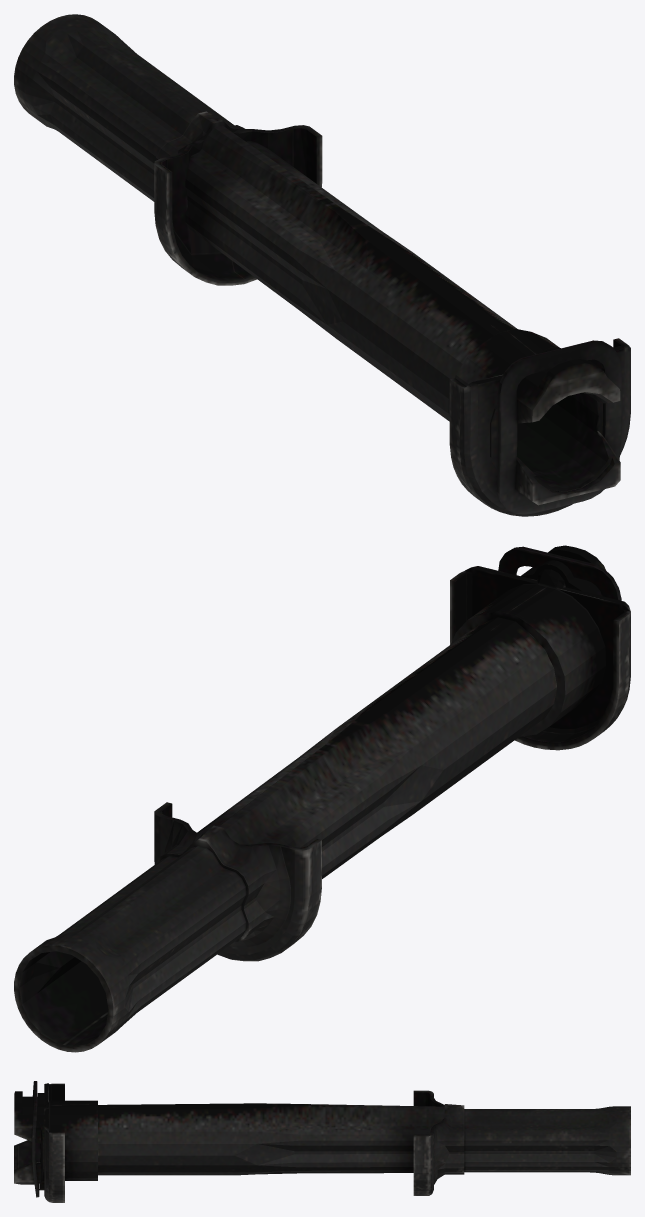
The picture shows the model from 3 angles, top to bottom: view 1: azimuth 30°, elevation 25°; view 2: azimuth 150°, elevation 25°; view 3: azimuth 270°, elevation 25°; orthographic projection. The views are drawn at different scales.
Visible parts, largest first — view 1: TW_59c6633186f7740cf0493bb9_PZ_Import; view 2: TW_59c6633186f7740cf0493bb9_PZ_Import; view 3: TW_59c6633186f7740cf0493bb9_PZ_Import.
Boxes of the visible parts, box(x1,y1,x2,y2) form: TW_59c6633186f7740cf0493bb9_PZ_Import: box(14, 14, 630, 516); TW_59c6633186f7740cf0493bb9_PZ_Import: box(14, 545, 630, 1052); TW_59c6633186f7740cf0493bb9_PZ_Import: box(14, 1081, 630, 1202).
Bounding box in the file's own units: 0.0201 × 0.1054 × 0.0196.
Materials: 1 (1 with a texture image).
